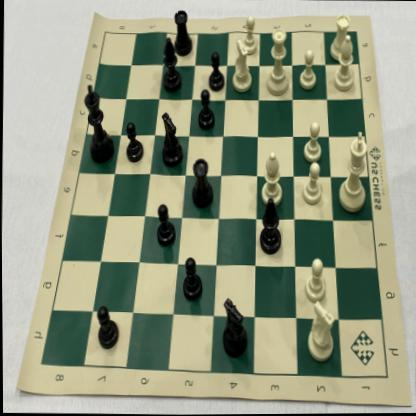black-bishop: (255, 196, 284, 259), (160, 33, 183, 97)
black-king: (80, 79, 117, 167)
black-knight: (219, 295, 250, 360), (157, 108, 183, 172)
black-pawn: (93, 302, 120, 353), (179, 251, 204, 303), (154, 198, 176, 252), (121, 120, 144, 167), (205, 49, 228, 92), (195, 87, 216, 133)
black-rook: (188, 152, 216, 211), (172, 3, 195, 58)
white-bishop: (329, 33, 359, 95), (257, 147, 286, 210)
white-king: (333, 127, 371, 218)
white-knight: (303, 299, 339, 367), (229, 36, 255, 95)
white-pawn: (299, 158, 324, 209), (303, 254, 328, 304), (300, 117, 325, 165), (237, 11, 262, 57), (296, 47, 320, 90)
white-queen: (263, 26, 293, 100)
white-rook: (325, 9, 355, 66)
